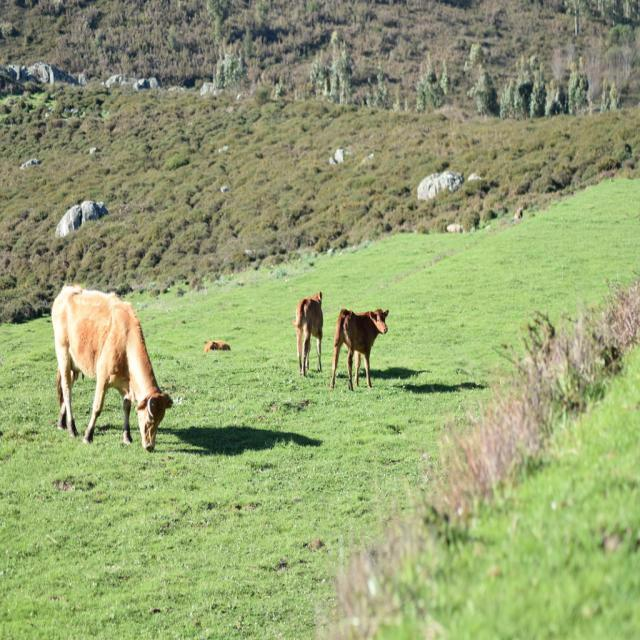cow: (51, 286, 172, 451), (330, 309, 388, 389), (294, 292, 324, 376)
